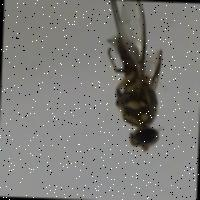Oriental-fruit-fly: (92, 0, 177, 150)
